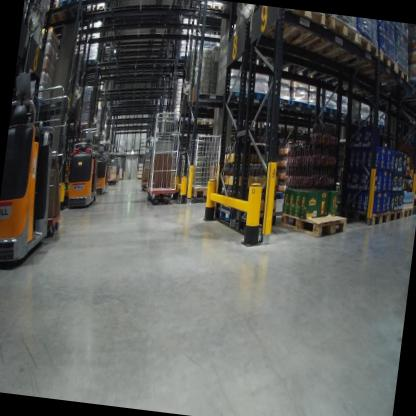pallet: (289, 11, 362, 67), (317, 26, 382, 82), (253, 5, 327, 54), (213, 194, 281, 238), (337, 41, 398, 88), (279, 204, 347, 242), (374, 57, 413, 95), (338, 203, 389, 227), (379, 80, 416, 112), (54, 0, 87, 30), (38, 0, 67, 32), (185, 179, 223, 201), (208, 3, 229, 31), (193, 1, 213, 29), (246, 88, 272, 103), (228, 86, 251, 102), (268, 91, 292, 106), (81, 56, 100, 74), (304, 100, 326, 115), (386, 207, 402, 224), (321, 103, 338, 118), (399, 205, 413, 223), (289, 99, 309, 111), (176, 53, 192, 65), (92, 2, 108, 14), (189, 117, 203, 130), (85, 4, 94, 16), (410, 204, 416, 216)
pallet_truck: (0, 66, 75, 281), (59, 118, 111, 212), (141, 124, 181, 208), (89, 127, 116, 197), (103, 147, 125, 186), (139, 139, 152, 193)
